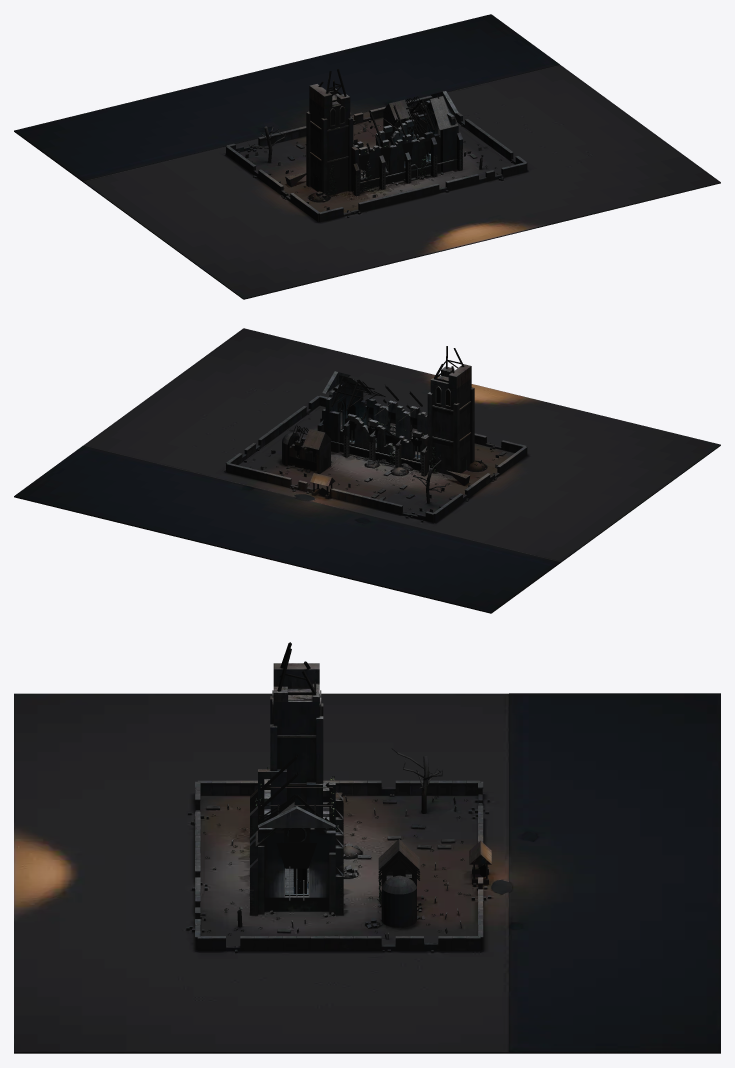
Rendered from ruined_churches_low.glb.
The picture shows the model from 3 angles, top to bottom: view 1: azimuth 30°, elevation 25°; view 2: azimuth 150°, elevation 25°; view 3: azimuth 270°, elevation 25°; orthographic projection. The views are drawn at different scales.
Visible parts, largest first — view 1: site_ground, walls_ext, props_churchyard, props_tower, roof, site_vegetation, props_chapel, props_rubble; view 2: site_ground, walls_ext, props_churchyard, props_tower, props_chapel, roof, props_rubble, site_vegetation; view 3: site_ground, walls_ext, props_churchyard, props_tower, props_chapel, site_vegetation, props_rubble, roof.
Part boxes in pixels (x1,y1,x2,y2): site_ground: (14,14,720,299); walls_ext: (351,91,462,196); props_churchyard: (225,95,527,222); props_tower: (285,69,353,195); roof: (359,95,458,170); site_vegetation: (247,117,501,207); props_chapel: (382,96,426,141); props_rubble: (237,117,512,217); site_ground: (14,328,720,613); walls_ext: (317,371,429,476); props_churchyard: (225,395,527,522); props_tower: (427,346,474,485); props_chapel: (282,425,331,473); roof: (331,375,422,446); props_rubble: (244,410,501,522); site_vegetation: (250,402,494,509); site_ground: (14,693,720,1053); walls_ext: (250,769,343,915); props_churchyard: (195,780,491,950); props_tower: (270,642,342,810); props_chapel: (378,839,419,927); site_vegetation: (203,748,470,935); props_rubble: (186,794,491,952); roof: (255,753,333,846).
Size of the model in its own units: 120 by 29.12 by 100.
Materials: 11 (11 with a texture image).
